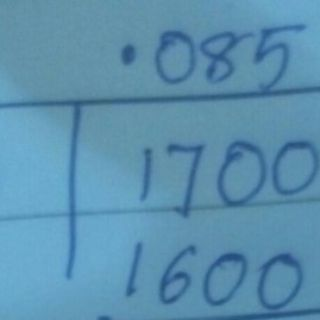.: (117, 38, 141, 68)
0: (214, 135, 268, 207), (256, 250, 305, 310), (270, 139, 318, 197), (201, 252, 248, 309), (153, 27, 197, 86)
1: (135, 142, 159, 207), (122, 237, 146, 300)
5: (252, 22, 307, 90)
6: (156, 242, 198, 307)
7: (163, 135, 205, 219)
8: (198, 28, 253, 86)
